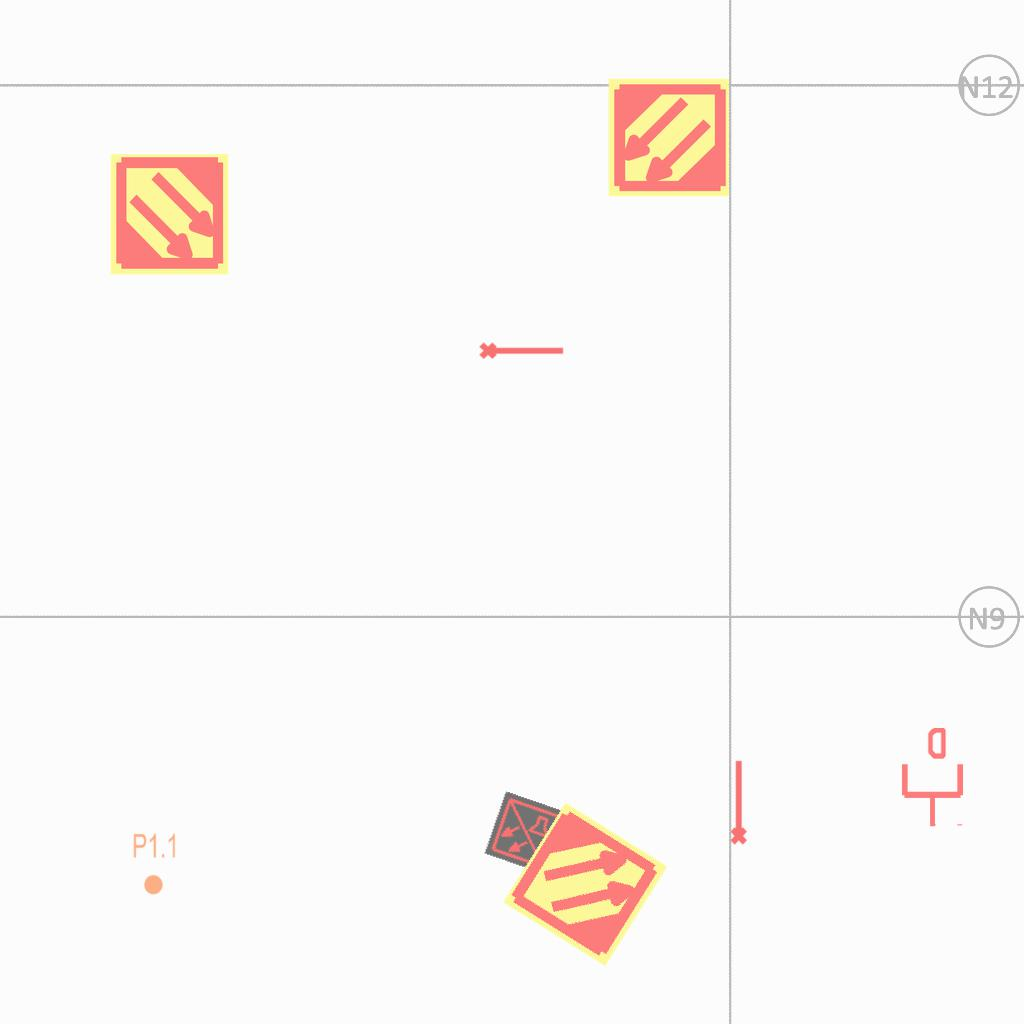ASR_Ansaugoeffnung: (726, 758, 749, 846), (478, 338, 566, 361)
ASR_Ansaugrauchmelder: (499, 798, 672, 971), (107, 152, 232, 277), (606, 75, 731, 200)
Datenanschluss_einfach: (898, 728, 967, 828)
Downlight_LED_Einbauleuchten_Flur: (132, 832, 178, 896)
OKW_Multisensormelder_(Kombination_optischer_Rauch-Kahlenmonoxid_Waerme-Melder): (484, 791, 568, 875)
